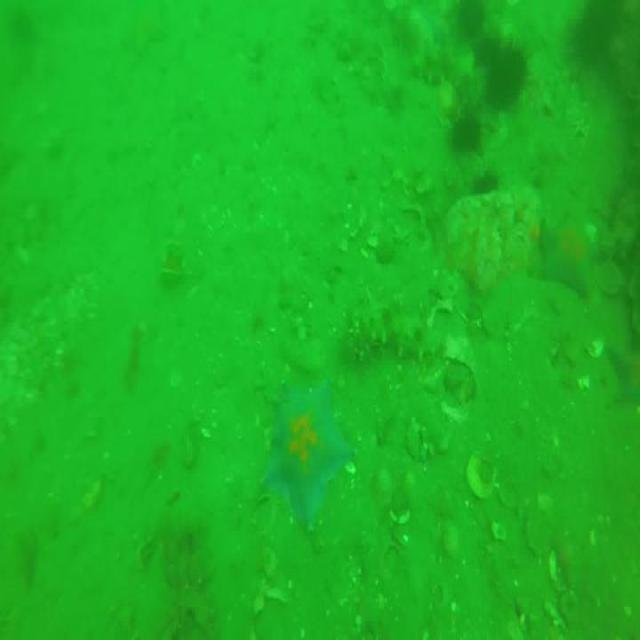echinus: (565, 6, 615, 70), (492, 44, 532, 103), (473, 22, 504, 66), (450, 112, 482, 153), (455, 5, 491, 38)
holothurian: (348, 284, 440, 368)
scallop: (465, 454, 498, 499), (548, 552, 572, 591), (492, 523, 508, 544)
starfish: (262, 373, 358, 531), (542, 216, 598, 294), (609, 345, 638, 406)
